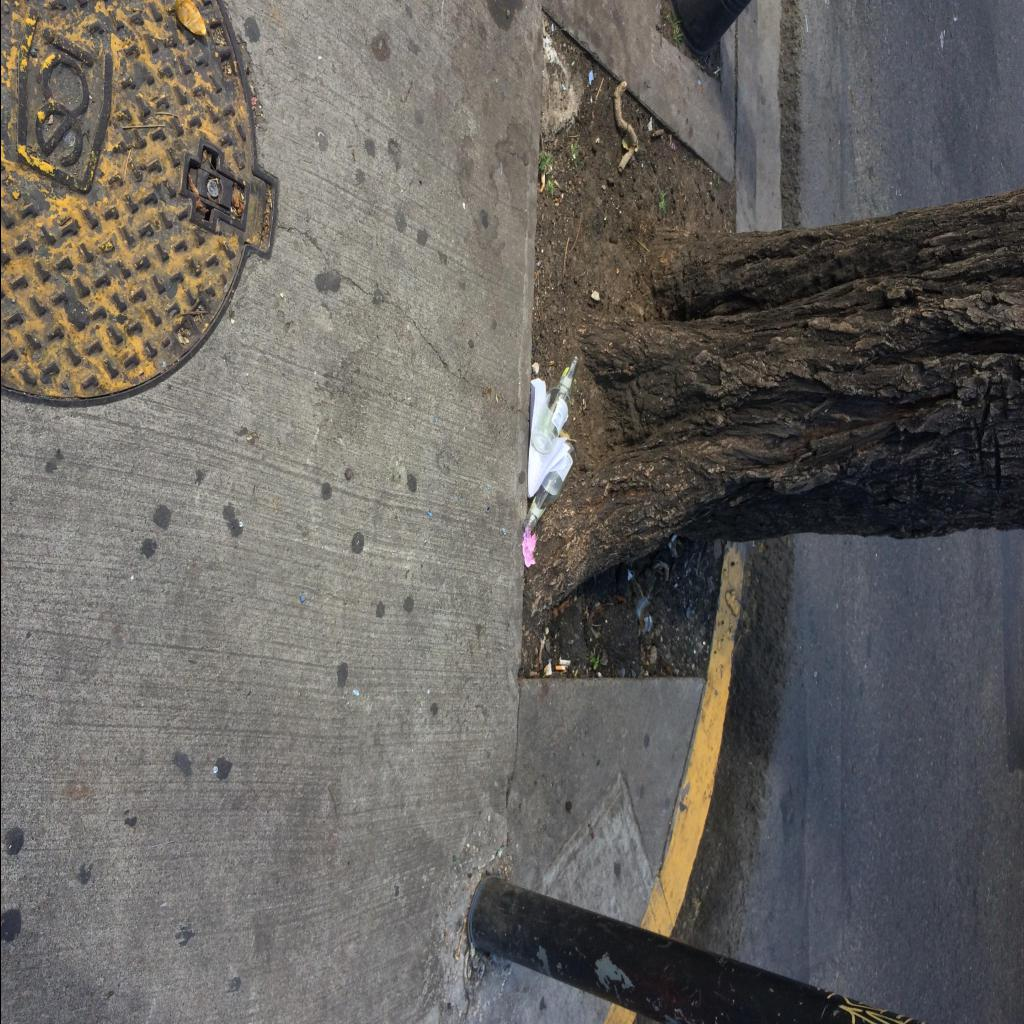Cigarette: (558, 660, 570, 666), (554, 666, 564, 671)
Glass bottle: (530, 354, 580, 456), (523, 440, 577, 532)
Normal paper: (527, 378, 567, 498)
